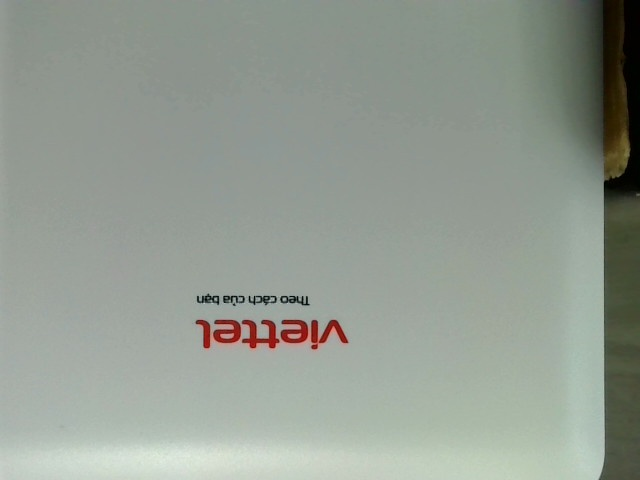AY_Viettel: (191, 291, 350, 355)
